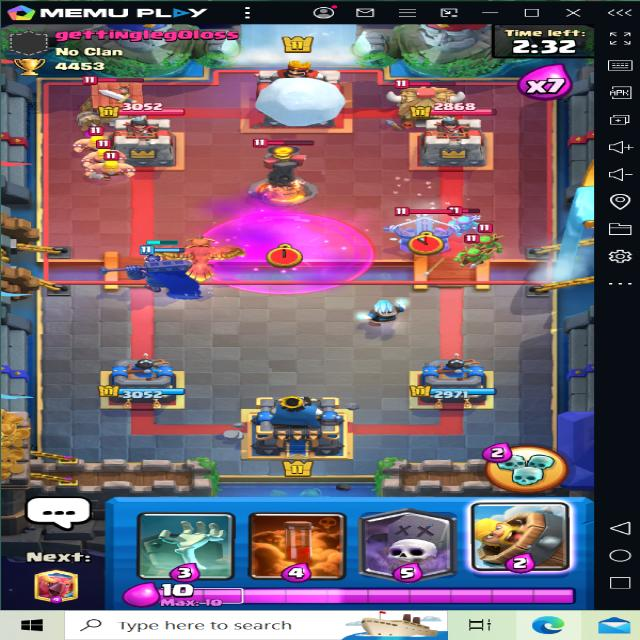barbarian: (72, 127, 117, 156), (88, 154, 132, 182), (82, 144, 133, 168)
barbarian-hut: (77, 72, 151, 132)
goblin-hut: (388, 75, 468, 127)
inferno-tower: (242, 136, 322, 203)
snowball: (255, 74, 340, 128)
spear-goblin: (454, 240, 493, 262), (448, 210, 477, 232), (475, 228, 503, 250)
x-bow: (383, 198, 469, 250)
